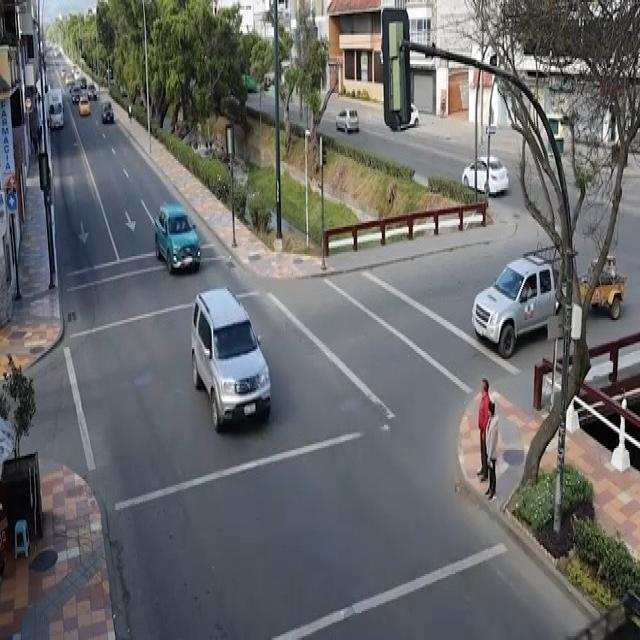CMT: (470, 257, 578, 353)
SUV: (189, 282, 275, 433)
